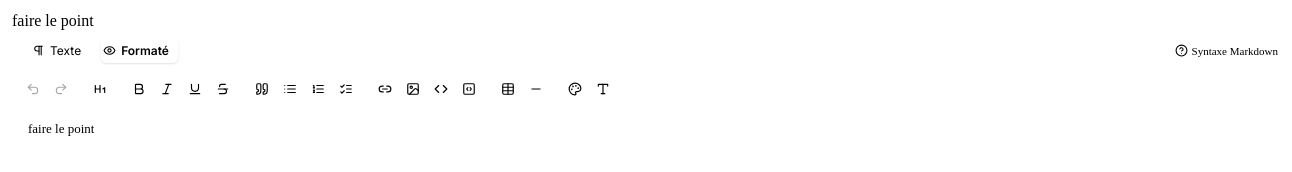
Scenario: MarkdownEditor mode Formaté › bascule un paragraphe en liste de tâches puis le rebascule
Click the button titled "Liste de tâches (Ctrl+Shift+4)".
click(346, 89)  # box [333, 76, 359, 102]
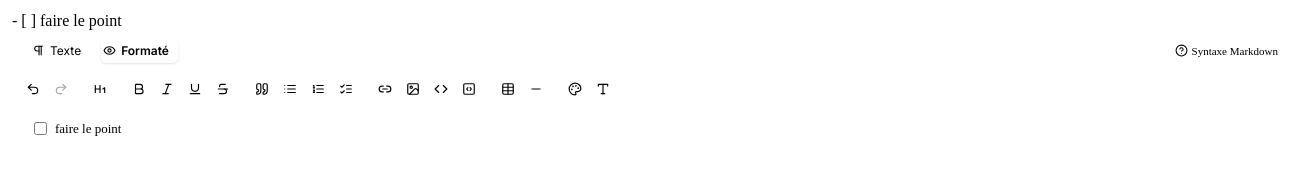
expect the text with test id "value" reads "- [ ] faire le point": met, box [12, 12, 122, 29]
Click the button titled "Liste de tâches (Ctrl+Shift+4)".
click(346, 89)  # box [333, 76, 359, 102]
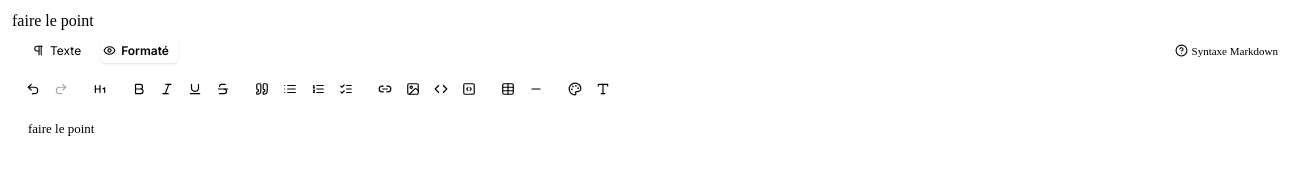
expect the text with test id "value" reads "faire le point": met, box [12, 12, 94, 29]
expect the checkbox is gone: met
